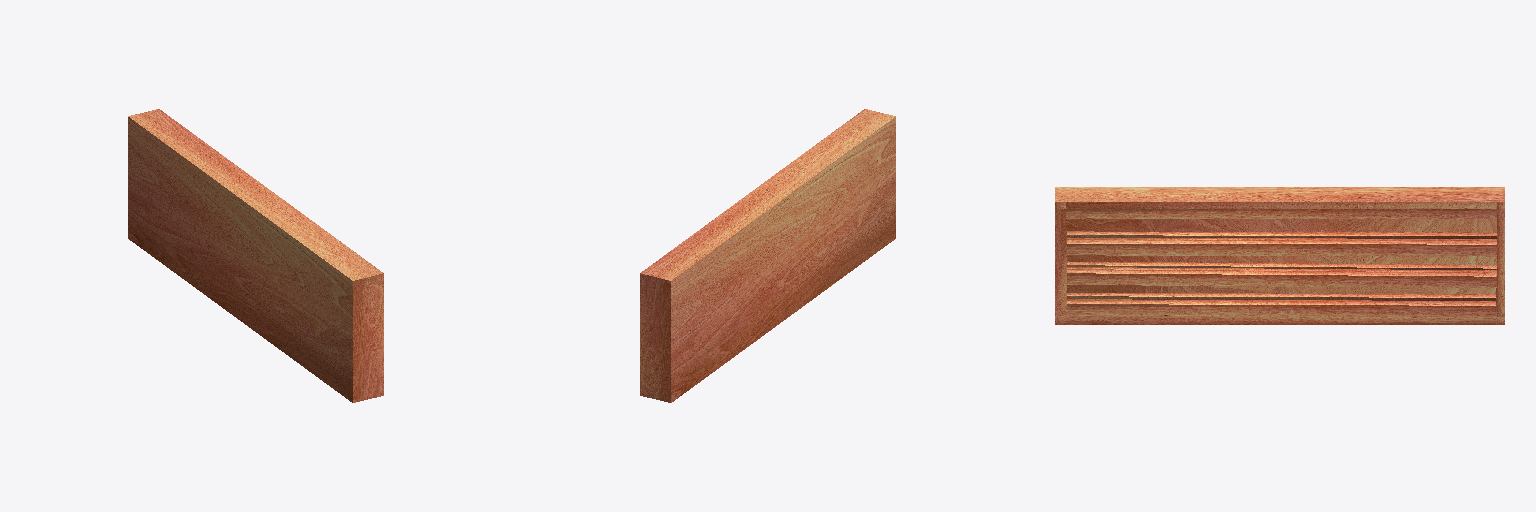
3 renders of one model, left to right at view 1: azimuth 30°, elevation 25°; view 2: azimuth 150°, elevation 25°; view 3: azimuth 270°, elevation 25°, orthographic.
Visible parts, largest first — view 1: Cube; view 2: Cube; view 3: Cube.
Part boxes in pixels (x1,y1,x2,y2): Cube: (128,109,383,402); Cube: (640,109,895,402); Cube: (1055,187,1504,324).
Size of the model in its own units: 0.4 by 1.5 by 5.
1 materials, 1 textured.